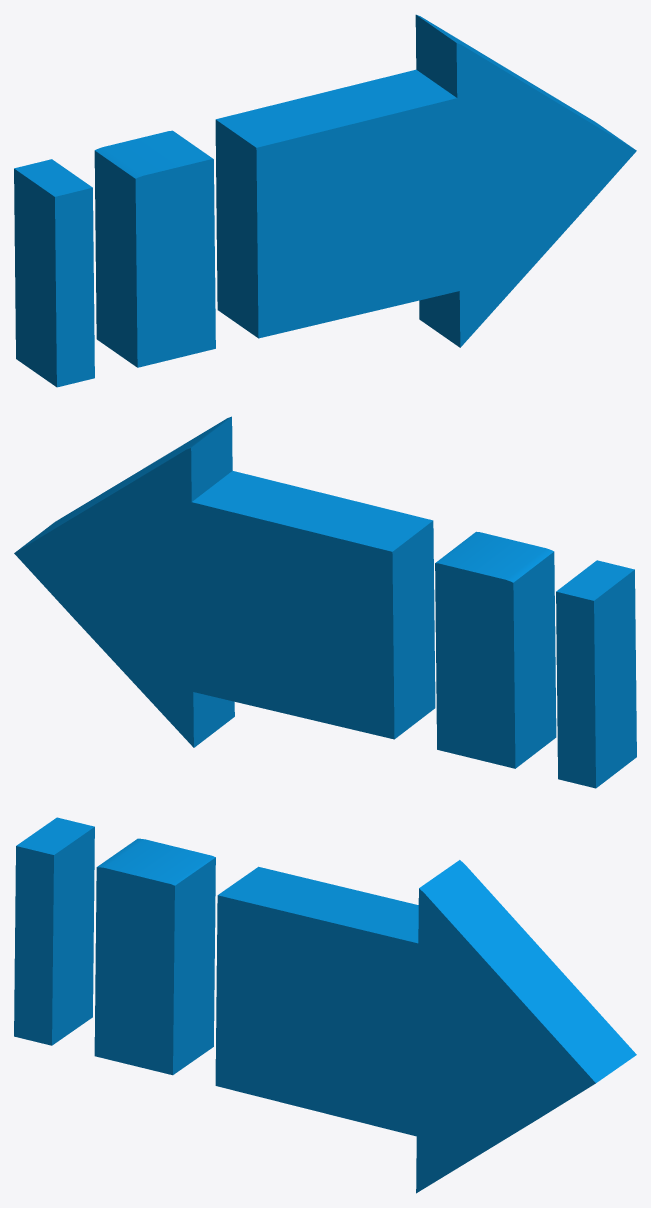
The model's file is Arrow Icon In Flat Style Arrow Symbol.fbx.
3 renders of one model, top to bottom at view 1: azimuth 30°, elevation 25°; view 2: azimuth 150°, elevation 25°; view 3: azimuth 330°, elevation 25°, orthographic.
Parts seen in each view (by area): view 1: Curve; view 2: Curve; view 3: Curve.
Part boxes in pixels (bbox=[...]): Curve: bbox=[14, 14, 636, 387]; Curve: bbox=[14, 416, 636, 788]; Curve: bbox=[14, 817, 636, 1193].
Size of the model in its own units: 251 by 125 by 33.04.
